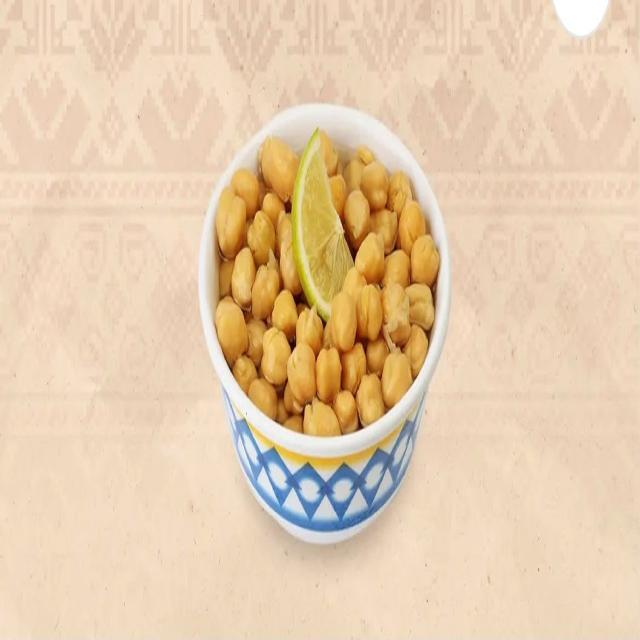Nakhi: (216, 124, 441, 434)
